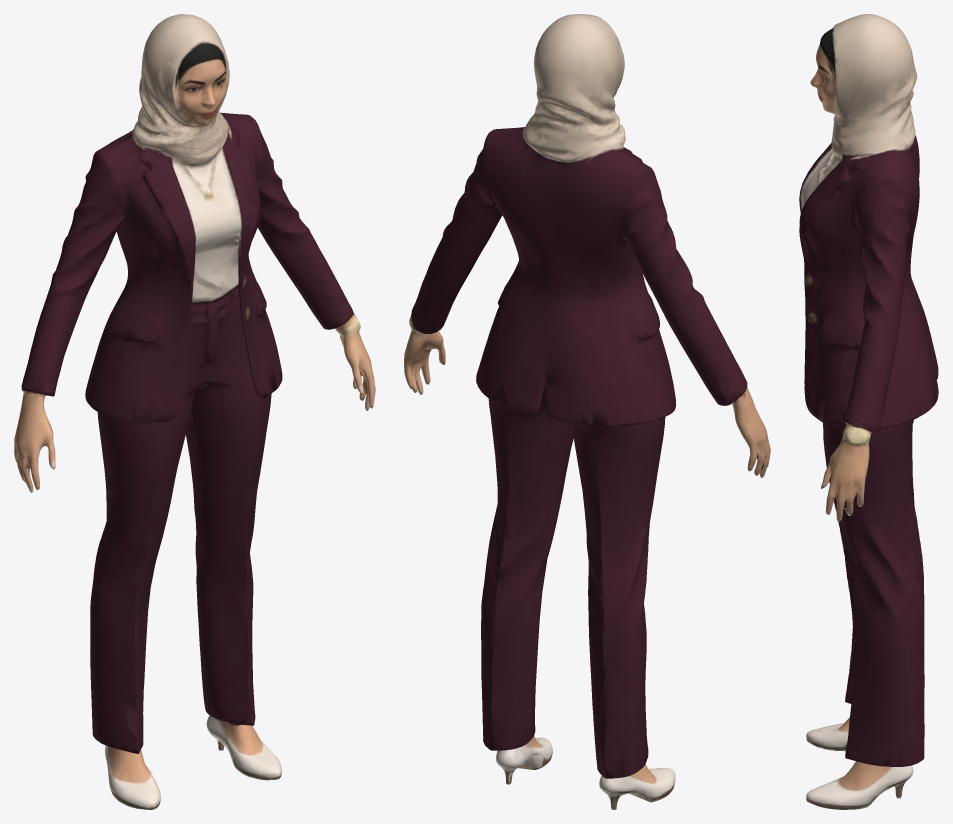
The model's file is meera-v1.glb.
3 views of the same model, side by side, from view 1: azimuth 30°, elevation 25°; view 2: azimuth 150°, elevation 25°; view 3: azimuth 270°, elevation 25° (orthographic).
Size of the model in its own units: 0.9241 by 1.9 by 0.3173.
1 material, 1 textured.
